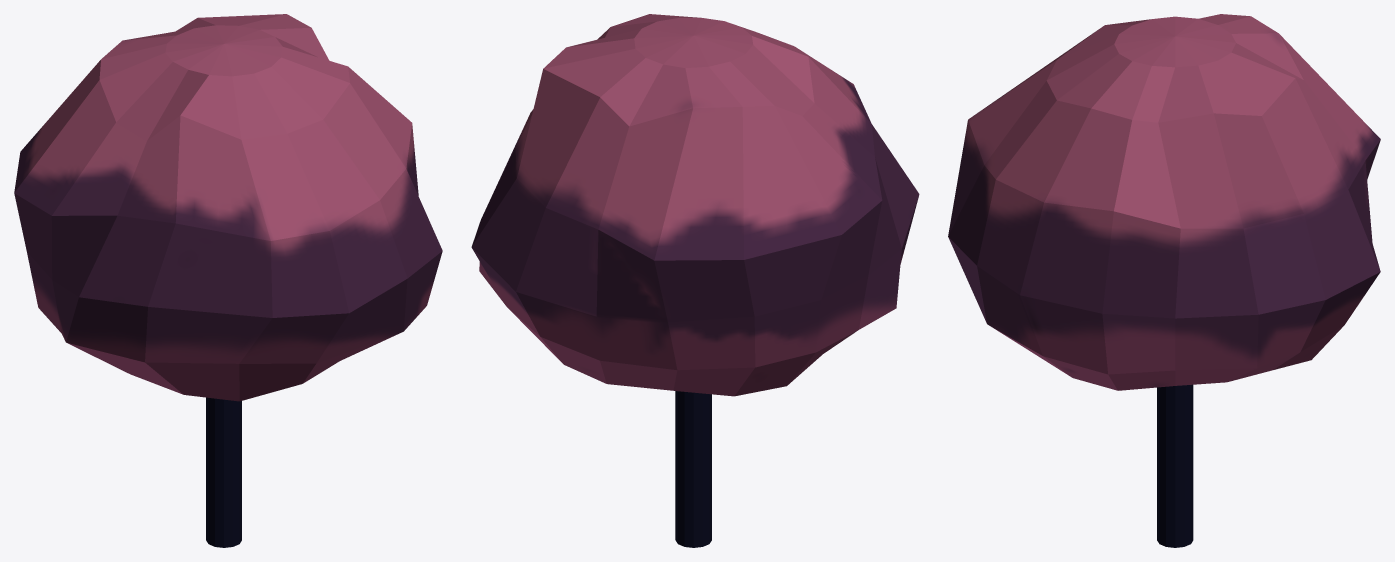
The model's file is tree_3.fbx.
3 renders of one model, left to right at view 1: azimuth 30°, elevation 25°; view 2: azimuth 150°, elevation 25°; view 3: azimuth 270°, elevation 25°, orthographic.
Parts seen in each view (by area): view 1: tree_small; view 2: tree_small; view 3: tree_small.
Boxes of the visible parts, x1=… form: tree_small: x1=14, y1=14, x2=442, y2=547; tree_small: x1=471, y1=14, x2=919, y2=547; tree_small: x1=948, y1=14, x2=1380, y2=547.
Bounding box in the file's own units: 253 × 342 × 267.
